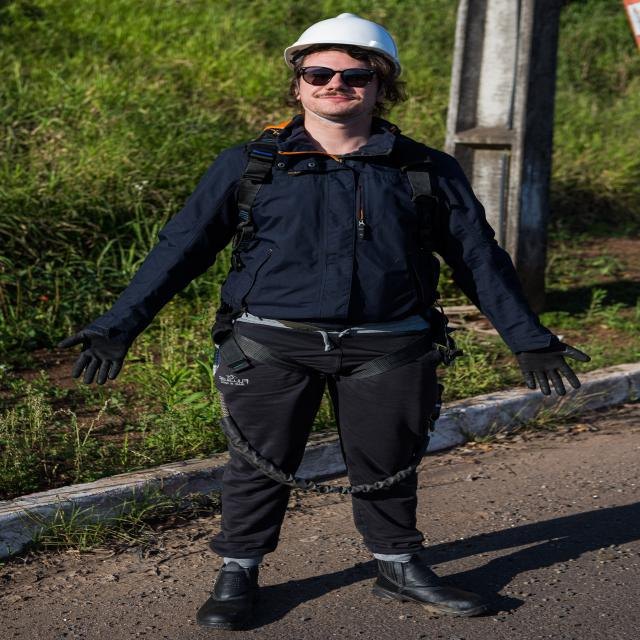botas: (368, 552, 495, 616), (192, 559, 265, 632)
capacete: (282, 12, 403, 72)
corda de vida: (199, 120, 461, 395)
luva: (56, 326, 134, 388), (514, 338, 594, 398)
